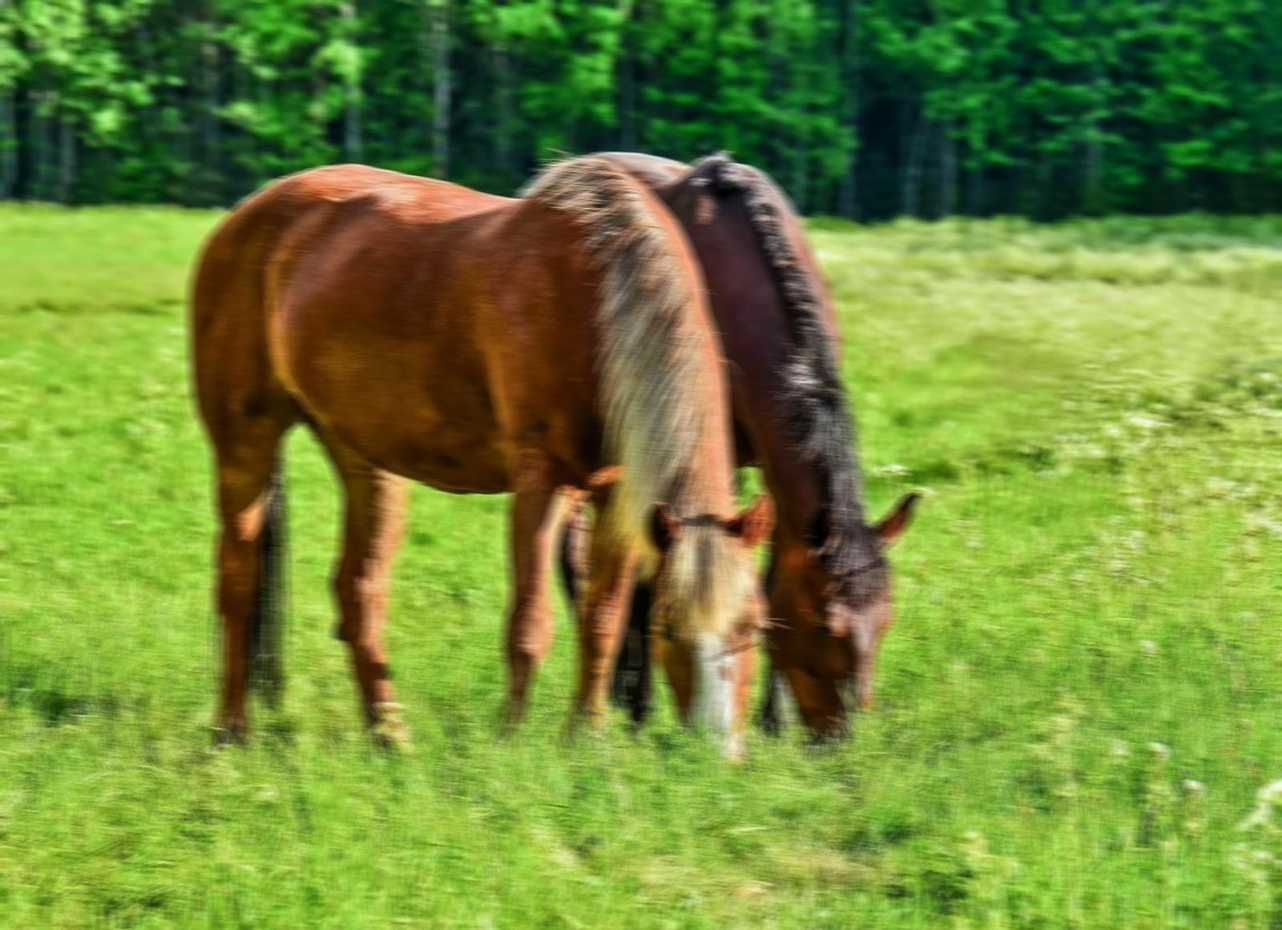horse: (184, 151, 772, 760), (525, 147, 921, 764)
